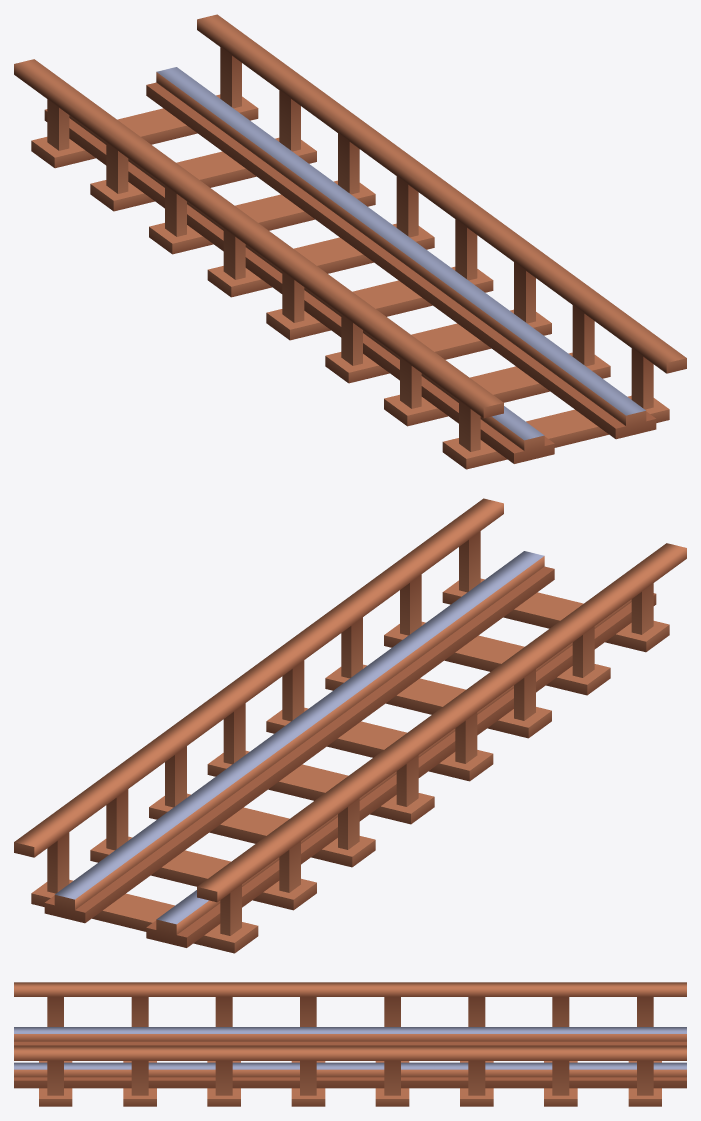
Rendered from coaster-wood-straight.glb.
The picture shows the model from 3 angles, top to bottom: view 1: azimuth 30°, elevation 25°; view 2: azimuth 150°, elevation 25°; view 3: azimuth 270°, elevation 25°; orthographic projection. The views are drawn at different scales.
Parts seen in each view (by area): view 1: coaster-wood-straight; view 2: coaster-wood-straight; view 3: coaster-wood-straight.
Part boxes in pixels (x1,y1,x2,y2): coaster-wood-straight: (14, 14, 686, 469); coaster-wood-straight: (14, 498, 686, 953); coaster-wood-straight: (14, 982, 686, 1106).
Bounding box in the file's own units: 1 × 0.35 × 4.
